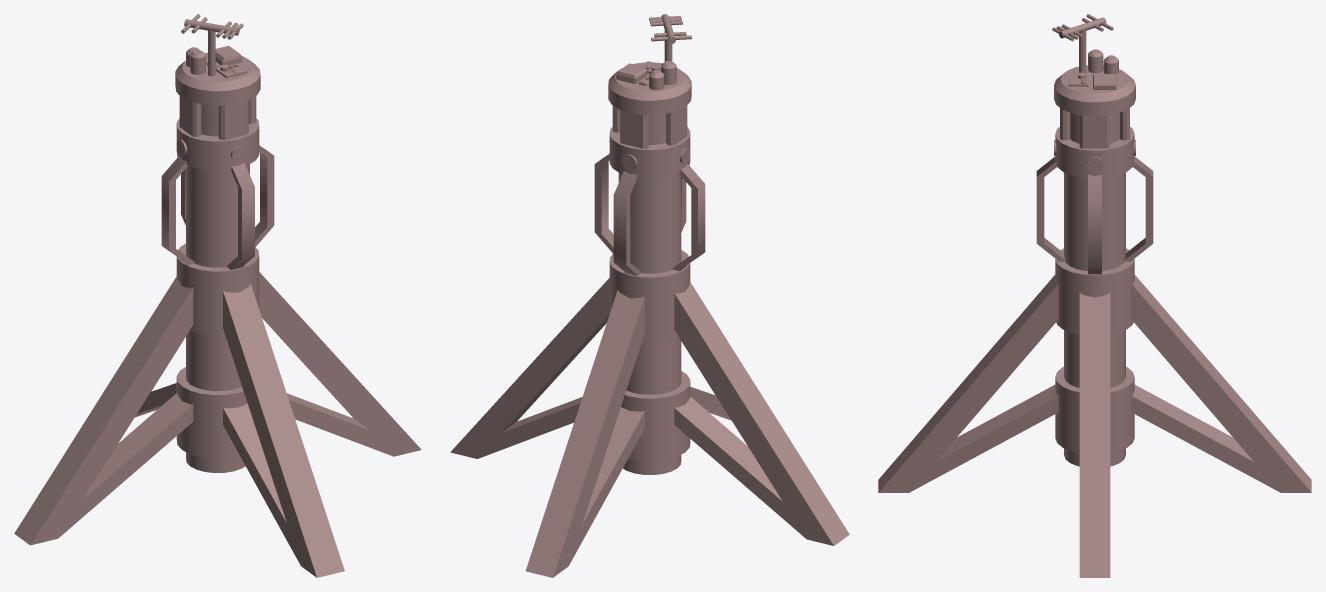
Rendered from dyn_gadget_motiondetectorblockout.fbx.
3 views of the same model, side by side, from view 1: azimuth 30°, elevation 25°; view 2: azimuth 150°, elevation 25°; view 3: azimuth 270°, elevation 25° (orthographic). The views are drawn at different scales.
Parts seen in each view (by area): view 1: pCube1, pCube4, pCylinder1, pCube2, pCube12, pCylinder2, pCylinder13, pCube11, pCylinder5, pCube10, pCylinder3, polySurface4 (+6 smaller); view 2: pCube3, pCube4, pCylinder1, pCube2, pCube12, pCylinder2, pCylinder13, pCube9, pCylinder5, pCylinder3, pCube10, polySurface3 (+6 smaller); view 3: pCube2, pCube3, pCube1, pCylinder1, pCube11, pCube9, pCylinder2, pCylinder13, pCylinder5, pCylinder3, polySurface2, polySurface3 (+3 smaller).
Part boxes in pixels (x1,y1,x2,y2): pCube1: (223, 284, 344, 577); pCube4: (14, 275, 193, 545); pCylinder1: (186, 164, 249, 472); pCube2: (259, 272, 421, 456); pCube12: (31, 393, 193, 544); pCylinder2: (176, 243, 259, 335); pCylinder13: (176, 367, 247, 458); pCube11: (223, 403, 315, 575); pCylinder5: (175, 52, 260, 105); pCube10: (287, 393, 419, 456); pCylinder3: (176, 118, 259, 170); polySurface4: (227, 163, 254, 269); pCube3: (525, 289, 644, 577); pCube4: (674, 282, 849, 545); pCylinder1: (618, 172, 681, 474); pCube2: (450, 278, 609, 458); pCube12: (674, 396, 832, 545); pCylinder2: (609, 250, 690, 339); pCylinder13: (621, 371, 690, 460); pCube9: (555, 407, 644, 574); pCylinder5: (608, 62, 691, 114); pCylinder3: (609, 127, 690, 178); pCube10: (452, 397, 582, 458); polySurface3: (613, 171, 640, 275); pCube2: (1079, 292, 1110, 577); pCube3: (1131, 275, 1311, 492); pCube1: (878, 275, 1058, 492); pCylinder1: (1064, 172, 1125, 466); pCube11: (880, 385, 1058, 492); pCube9: (1131, 385, 1309, 492); pCylinder2: (1055, 248, 1134, 334); pCylinder13: (1055, 366, 1134, 453); pCylinder5: (1054, 65, 1135, 116); pCylinder3: (1055, 127, 1134, 178); polySurface2: (1088, 175, 1101, 274); polySurface3: (1124, 156, 1153, 261).
Bounding box in the file's own units: 45.3 × 52.56 × 45.3.
